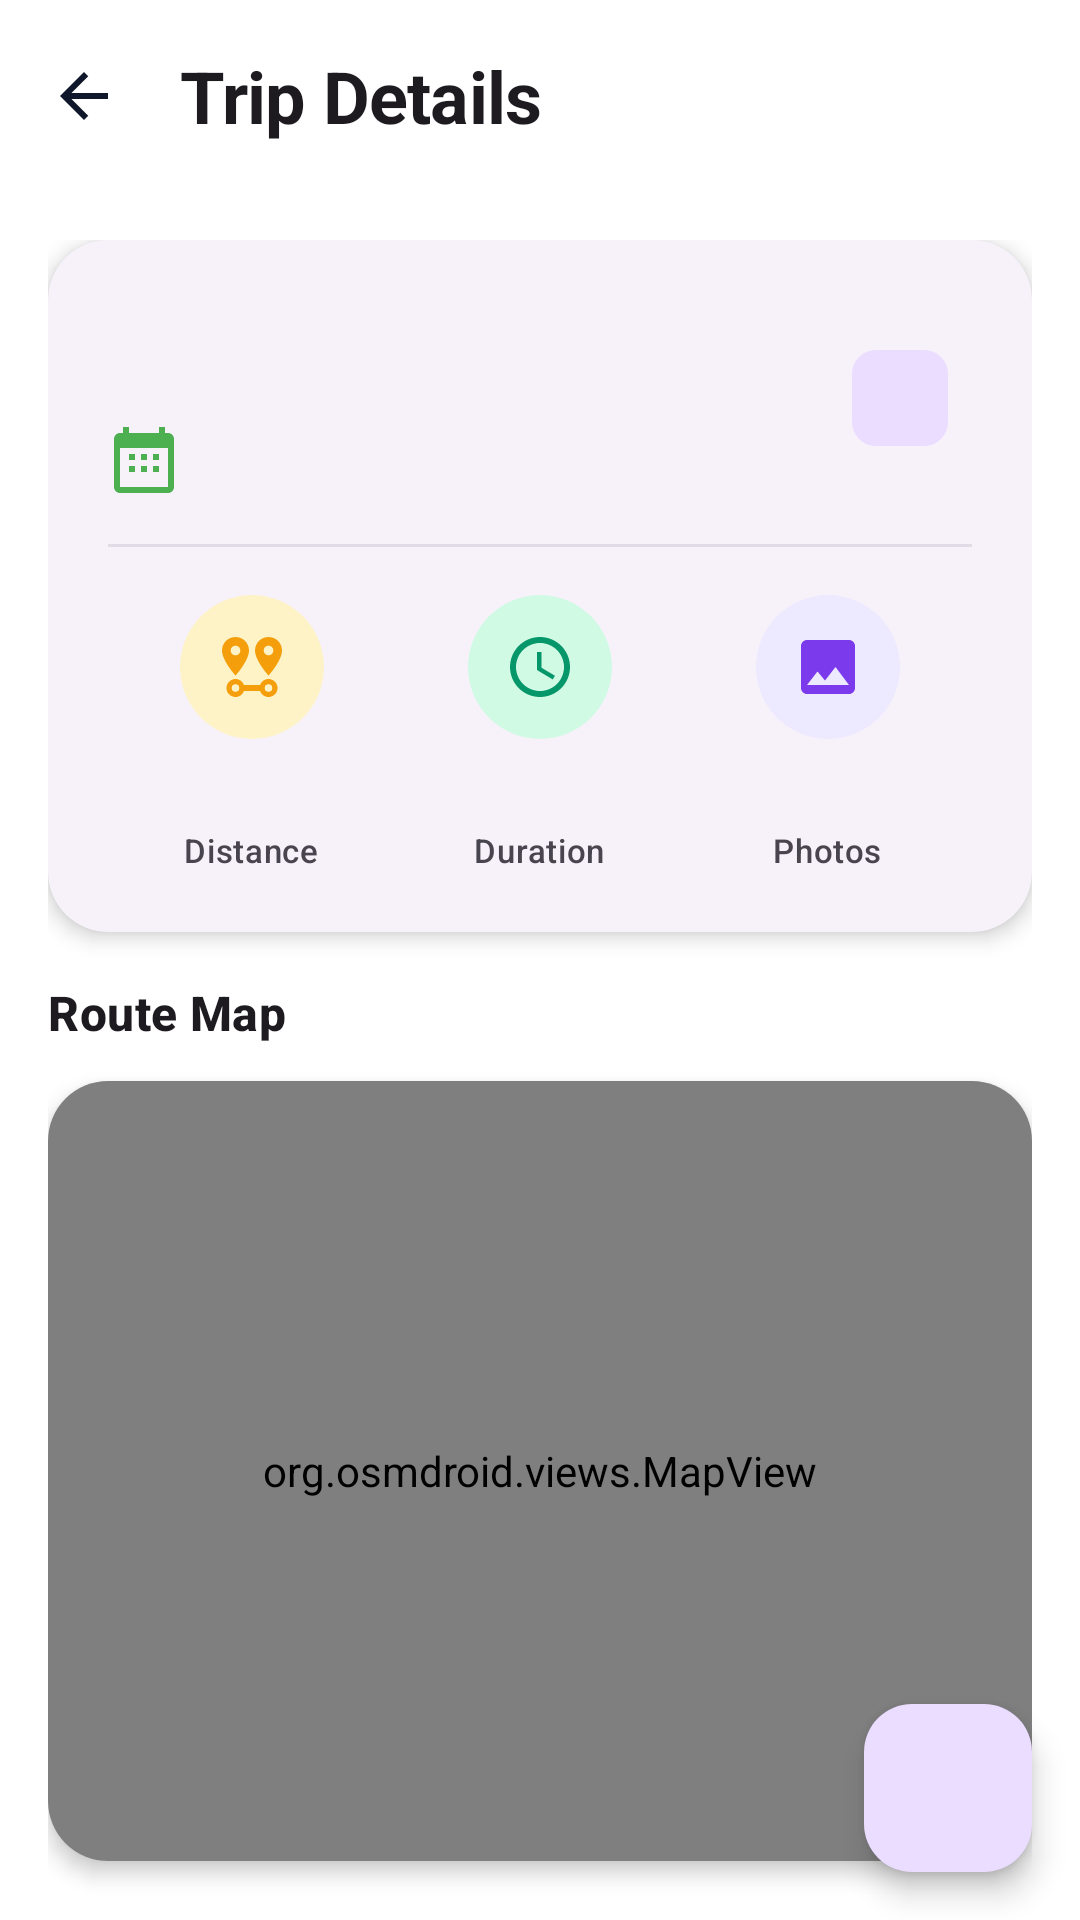

Where to tap for icons on this 1080w x 1920h app screen, as point (x, y):
time: point (540, 667)
